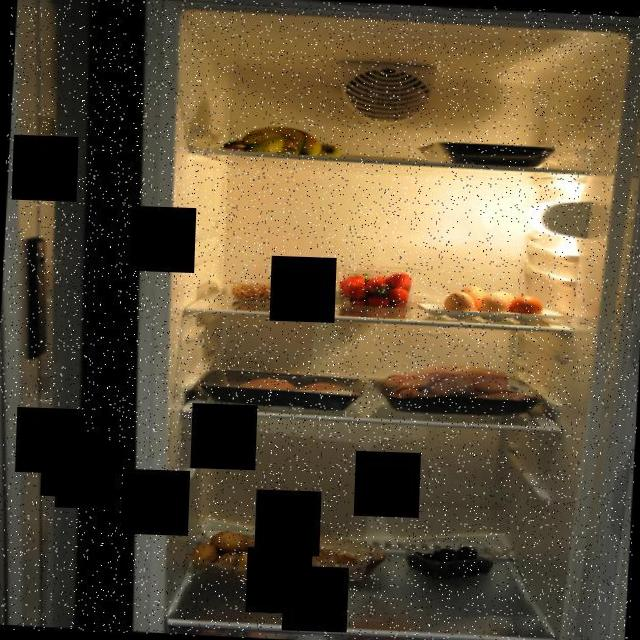Carne pollo: (370, 358, 544, 418), (196, 366, 368, 413)
Gambas/Langostinos: (228, 277, 314, 305)
Huevos: (439, 282, 545, 322)
Patata: (184, 523, 288, 582)
Plátano: (221, 120, 345, 165)
